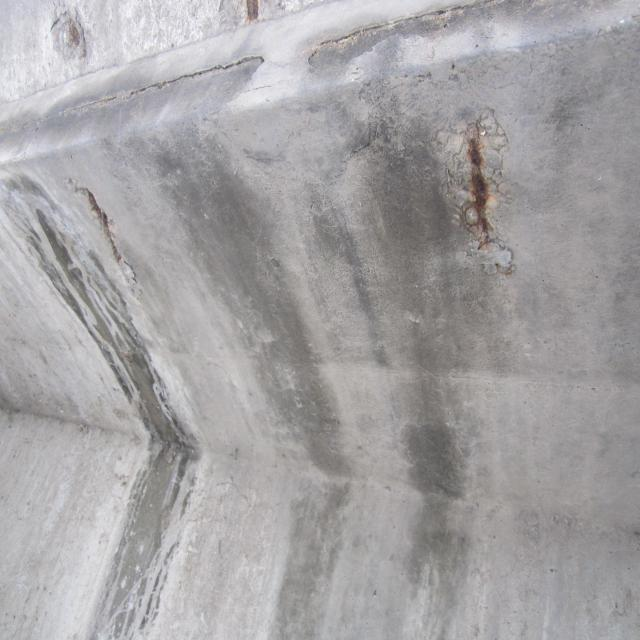Rebar: (427, 106, 509, 244), (82, 174, 128, 258)
horizontal crack: (69, 51, 262, 112), (319, 1, 486, 54)
